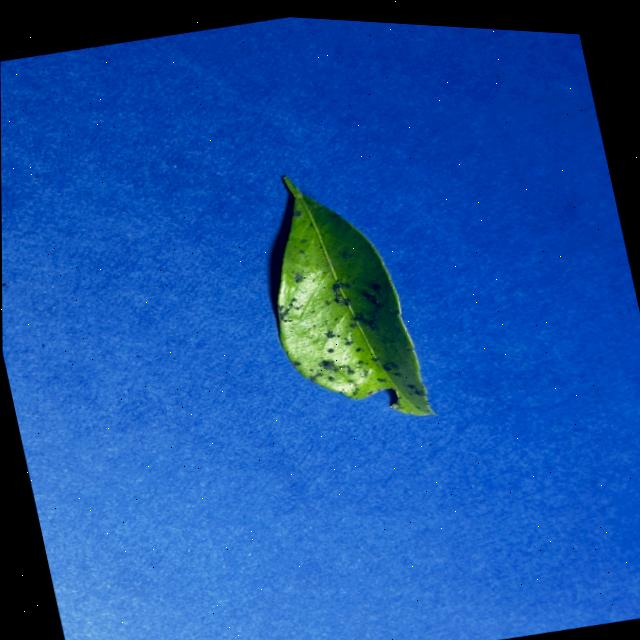sooty_mold: (278, 177, 433, 415)
